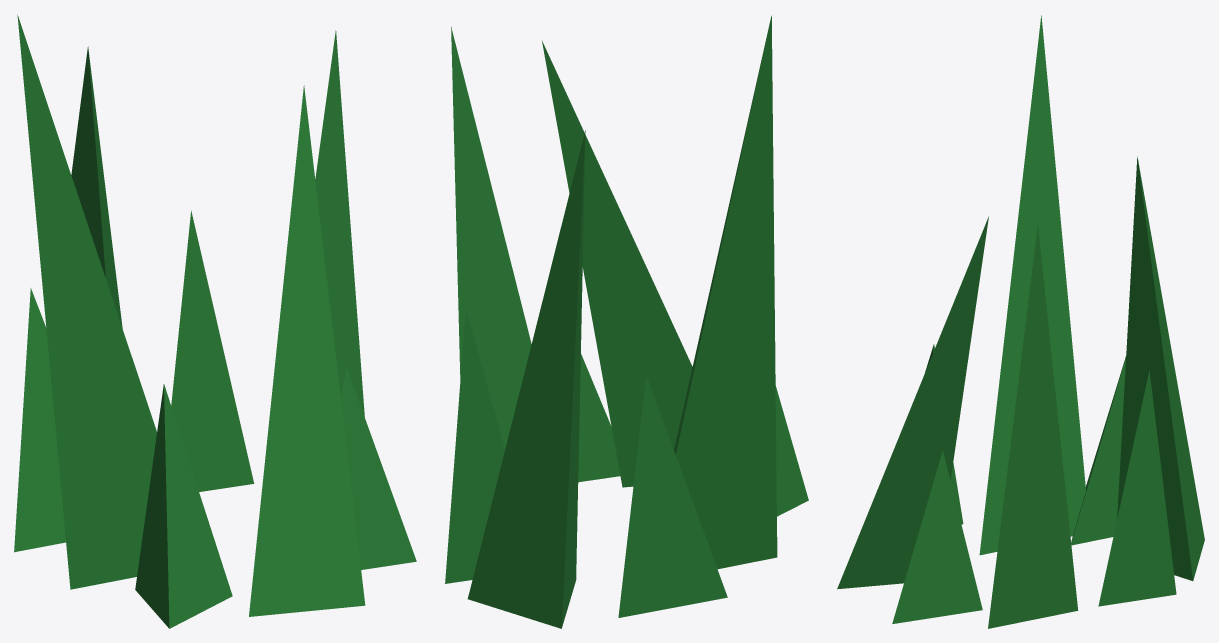
Rendered from Grass.fbx.
The picture shows the model from 3 angles, left to right: view 1: azimuth 30°, elevation 25°; view 2: azimuth 150°, elevation 25°; view 3: azimuth 270°, elevation 25°; orthographic projection. The views are drawn at different scales.
Visible parts, largest first — view 1: Grass; view 2: Grass; view 3: Grass.
Part boxes in pixels (<box>): Grass: <box>14,14,416,628</box>; Grass: <box>445,15,808,628</box>; Grass: <box>837,15,1204,628</box>.
Size of the model in its own units: 48.02 by 79.4 by 55.19.
